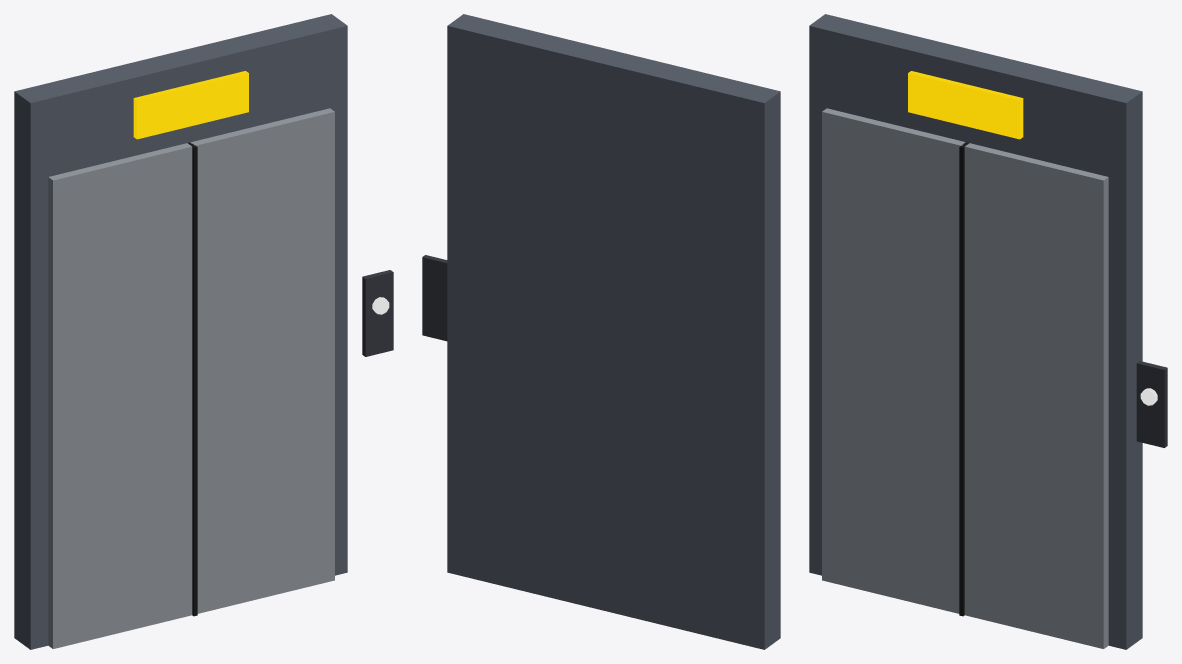
Rendered from lift.glb.
The picture shows the model from 3 angles, left to right: view 1: azimuth 30°, elevation 25°; view 2: azimuth 150°, elevation 25°; view 3: azimuth 330°, elevation 25°; orthographic projection.
Visible parts, largest first — view 1: part-lift-door, part-lift-surround, part-indicator, part-gap-dark, part-call-panel; view 2: part-lift-surround, part-call-panel; view 3: part-lift-door, part-lift-surround, part-indicator, part-gap-dark, part-call-panel.
Part boxes in pixels (bbox=[...]): part-lift-door: bbox=[48, 108, 334, 648]; part-lift-surround: bbox=[14, 14, 347, 649]; part-indicator: bbox=[133, 71, 248, 139]; part-gap-dark: bbox=[187, 142, 197, 616]; part-call-panel: bbox=[362, 270, 393, 356]; part-lift-surround: bbox=[447, 14, 780, 649]; part-call-panel: bbox=[422, 255, 447, 341]; part-lift-door: bbox=[822, 108, 1108, 648]; part-lift-surround: bbox=[809, 14, 1142, 649]; part-indicator: bbox=[908, 71, 1023, 139]; part-gap-dark: bbox=[959, 142, 969, 616]; part-call-panel: bbox=[1136, 361, 1167, 447].
Bounding box in the file's own units: 38.5 × 56 × 4.2.
